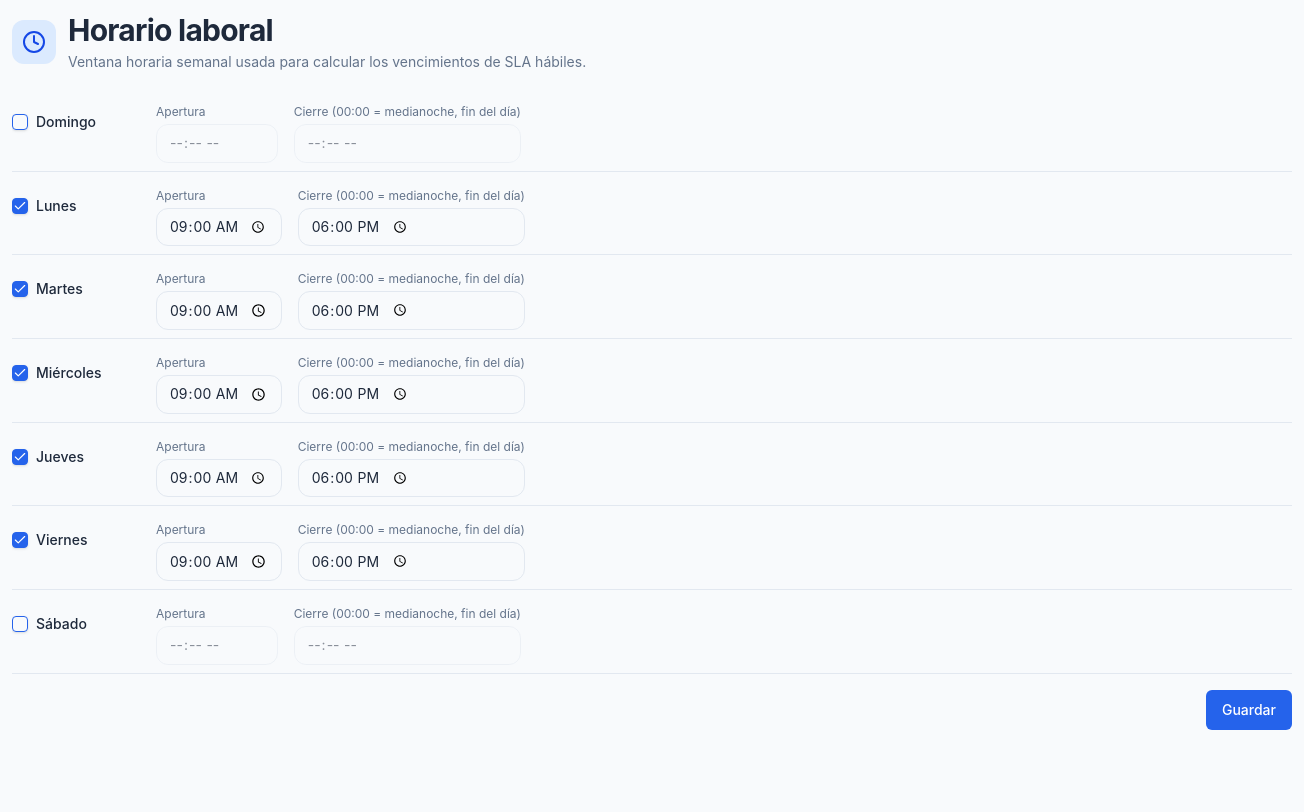
Test case: HorarioLaboralView (task 8b.3, WU-8b) › al guardar con éxito, la grilla se resetea con el horario devuelto por el servidor y notifica éxito
Expected: the time field labelled "Apertura" next to "Lunes" holds "09:00", x1=156 y1=208 x2=282 y2=246
Click the button "Guardar": (1249, 710) x1=1206 y1=690 x2=1292 y2=730
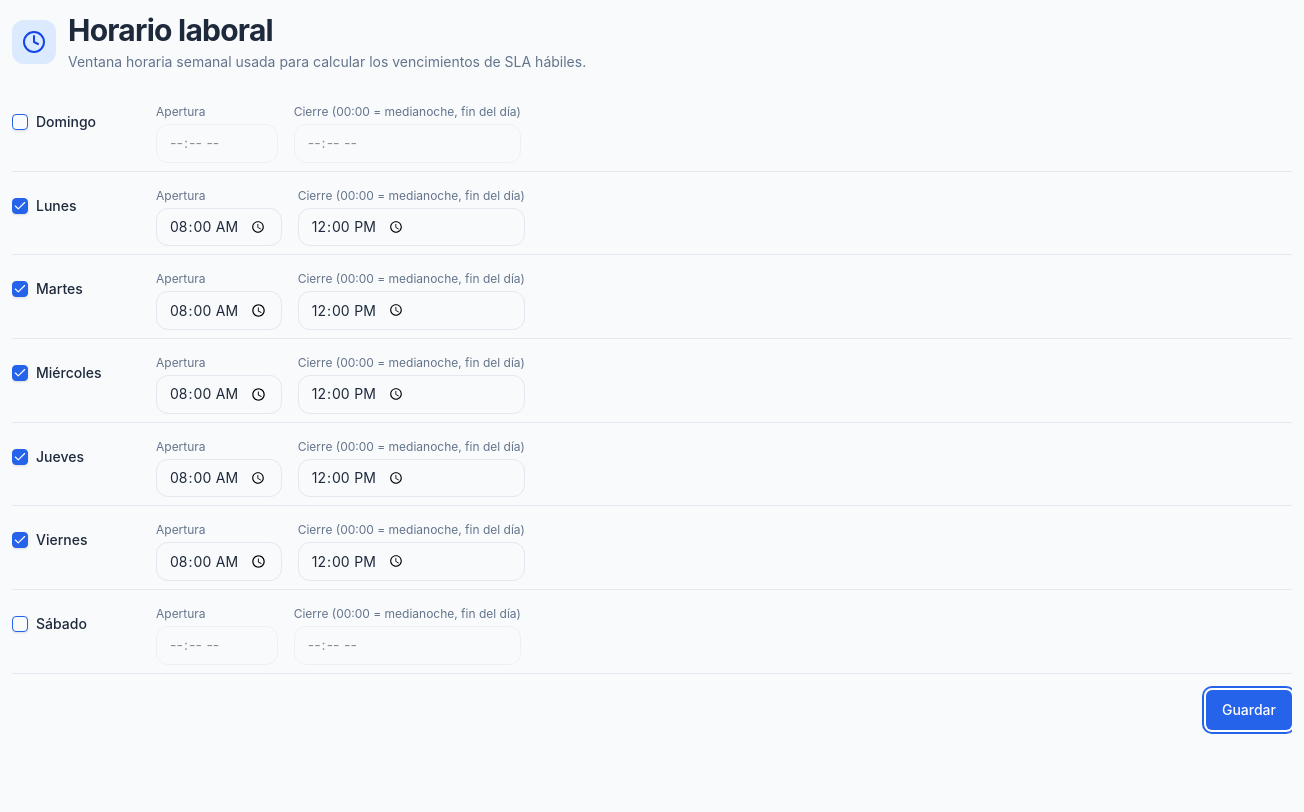
Expected: the time field labelled "Apertura" next to "Lunes" holds "08:00", x1=156 y1=208 x2=282 y2=246
